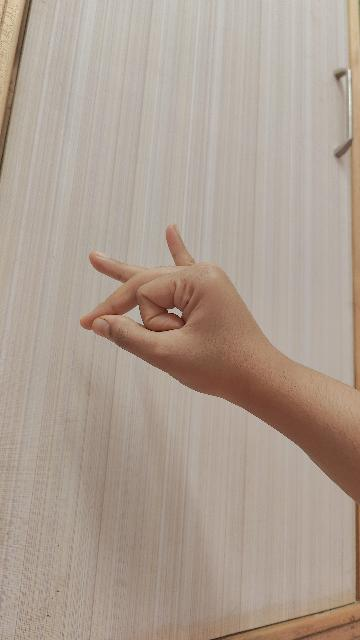bhramara: (81, 225, 360, 511)
